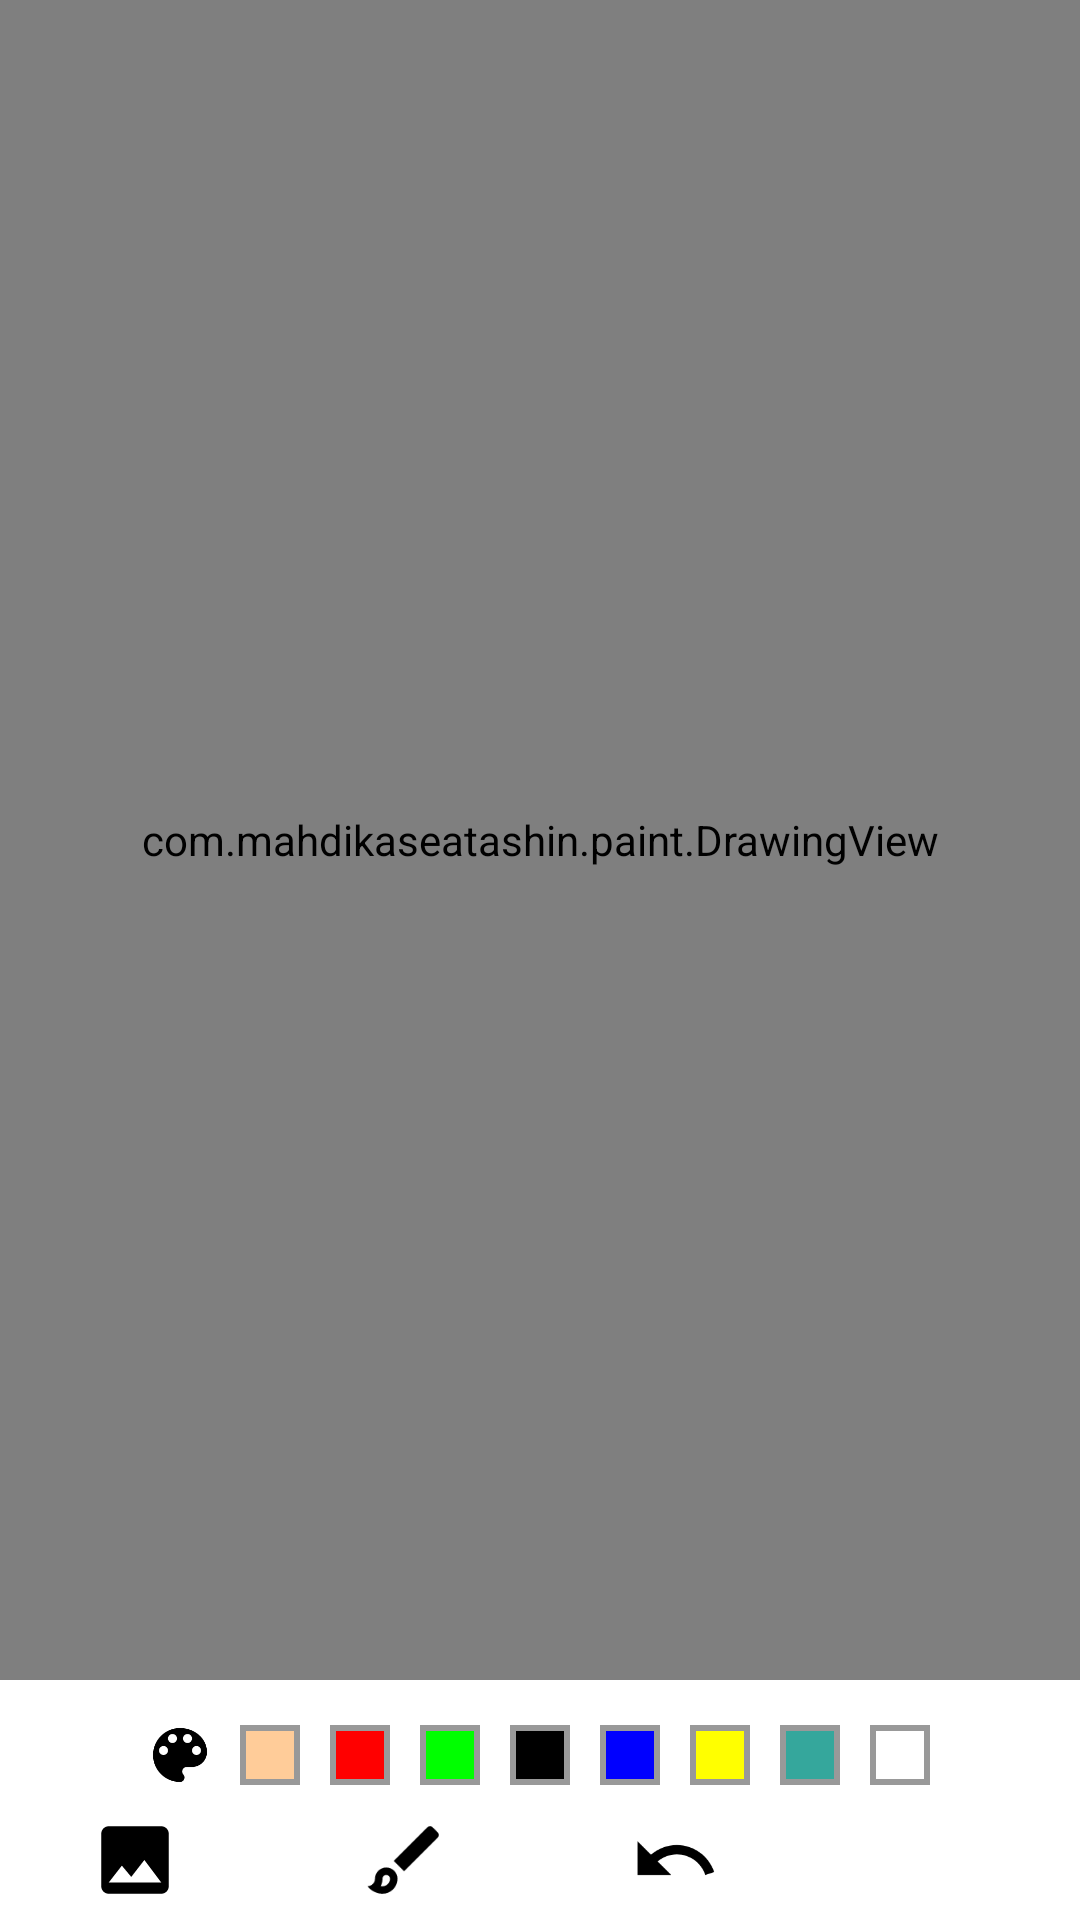

Named icons in this screenshot (1080x1920) and their bounding boxes, Rect(x1, y1, x2, y2):
undo: Rect(637, 1841, 714, 1876)
